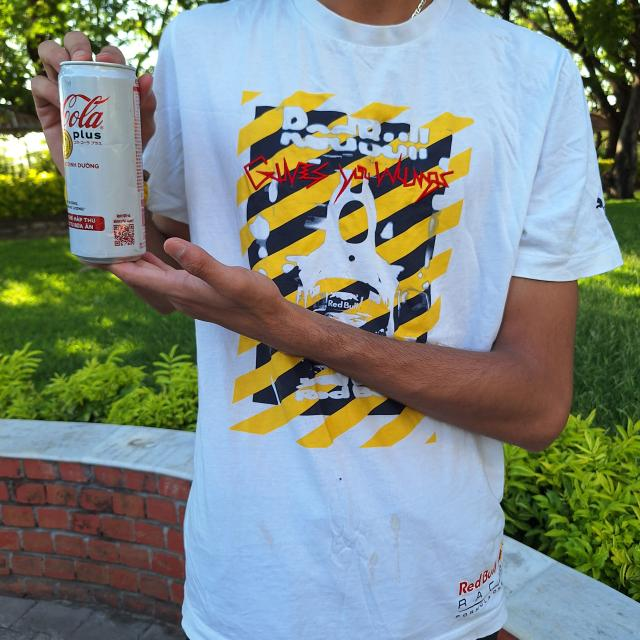Coca Cola Plus: (53, 60, 152, 259)
